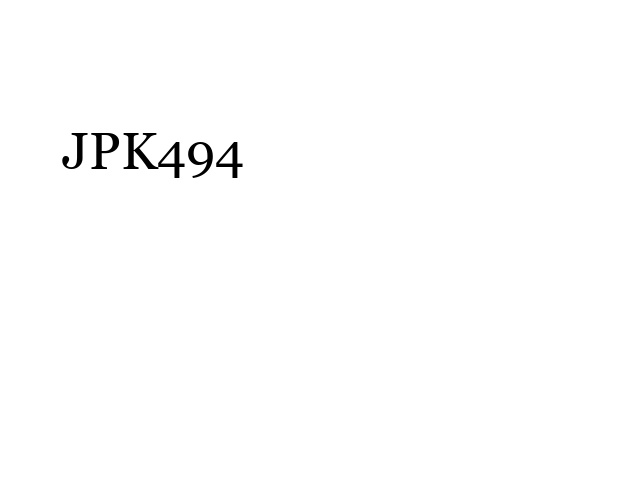OCR_AREA: (58, 129, 248, 182)
